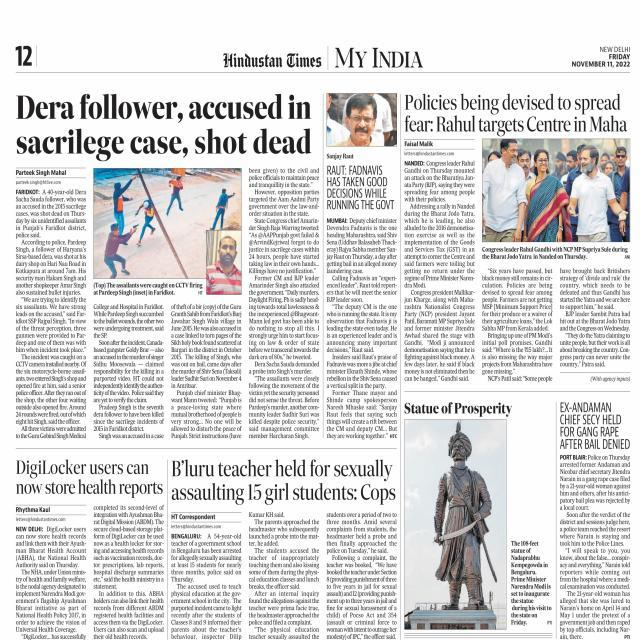Article: (12, 87, 322, 442), (402, 87, 634, 385), (168, 454, 399, 640), (12, 455, 166, 640), (324, 90, 401, 443), (557, 396, 633, 640)
Body: (248, 166, 320, 441), (14, 186, 88, 439), (324, 215, 400, 440), (403, 158, 476, 382), (558, 452, 632, 640), (91, 501, 166, 640), (170, 301, 243, 441), (92, 301, 165, 440), (324, 508, 398, 640), (247, 508, 320, 640), (14, 525, 89, 640), (481, 265, 554, 383), (560, 266, 632, 382), (169, 529, 243, 640)
Date: (569, 51, 632, 69)
Heading: (15, 89, 314, 161), (171, 456, 397, 506), (403, 90, 629, 137), (14, 457, 165, 498), (558, 400, 632, 450), (326, 162, 396, 212)
Highlights: (511, 538, 554, 628), (403, 401, 516, 416)
Image: (404, 418, 507, 630), (484, 138, 630, 242), (94, 166, 207, 278), (327, 92, 397, 144), (208, 230, 241, 294)
Name: (333, 42, 423, 70), (220, 49, 324, 70)
